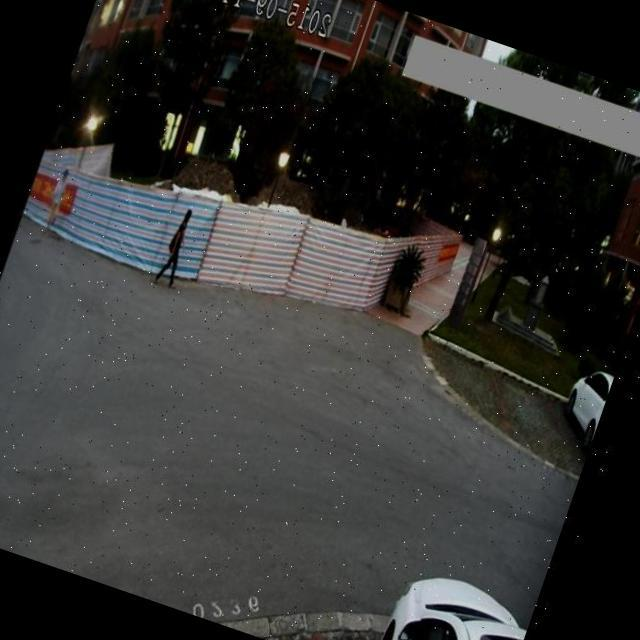person: (146, 202, 202, 298), (36, 161, 77, 238)
